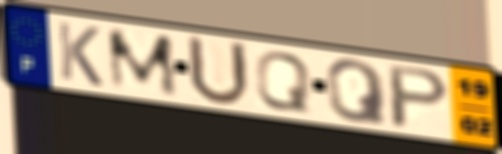K: (54, 19, 106, 90)
M: (104, 28, 183, 99)
P: (387, 63, 453, 131)
Q: (324, 57, 392, 128), (253, 51, 314, 115)
U: (184, 32, 254, 109)
